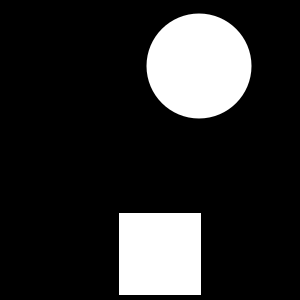circle: (119, 213, 201, 295)
rectangle: (146, 14, 252, 118)
